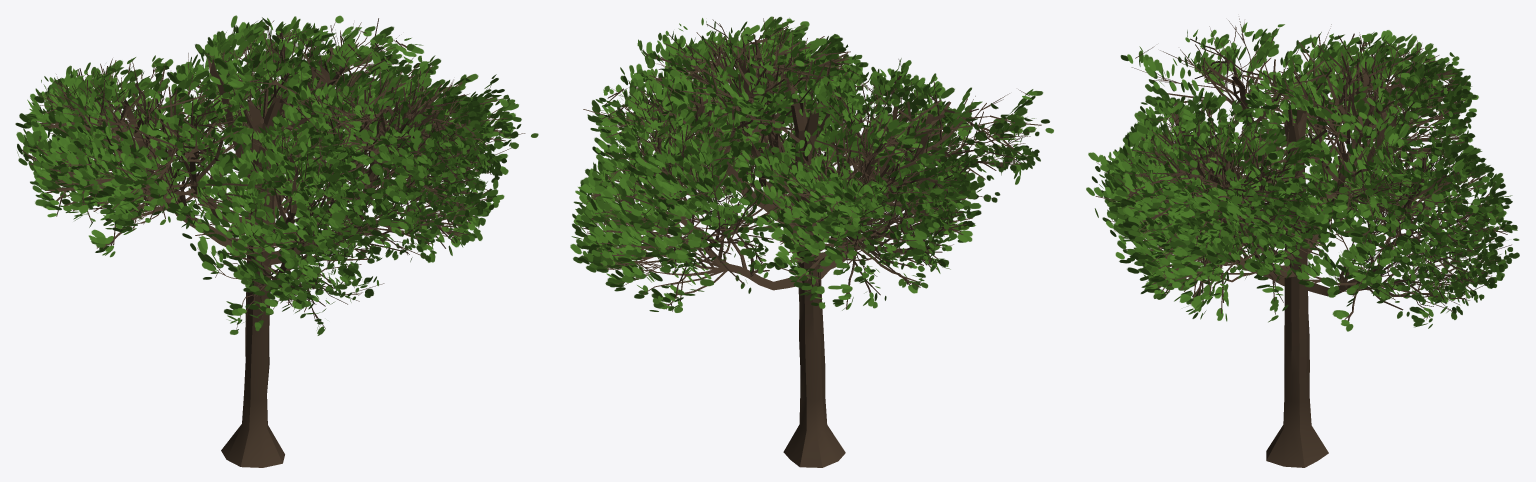
3 views of the same model, side by side, from view 1: azimuth 30°, elevation 25°; view 2: azimuth 150°, elevation 25°; view 3: azimuth 270°, elevation 25° (orthographic). The views are drawn at different scales.
Parts seen in each view (by area): view 1: oak 01.001_trunk_Mat.001_0.143; view 2: oak 01.001_trunk_Mat.001_0.143; view 3: oak 01.001_trunk_Mat.001_0.143.
Boxes of the visible parts, x1,y1,x2,y2 form: oak 01.001_trunk_Mat.001_0.143: (15, 15, 538, 467); oak 01.001_trunk_Mat.001_0.143: (570, 16, 1053, 467); oak 01.001_trunk_Mat.001_0.143: (1086, 18, 1519, 467).
Size of the model in its own units: 6.28 by 5.23 by 5.69.
2 materials, 1 textured.
